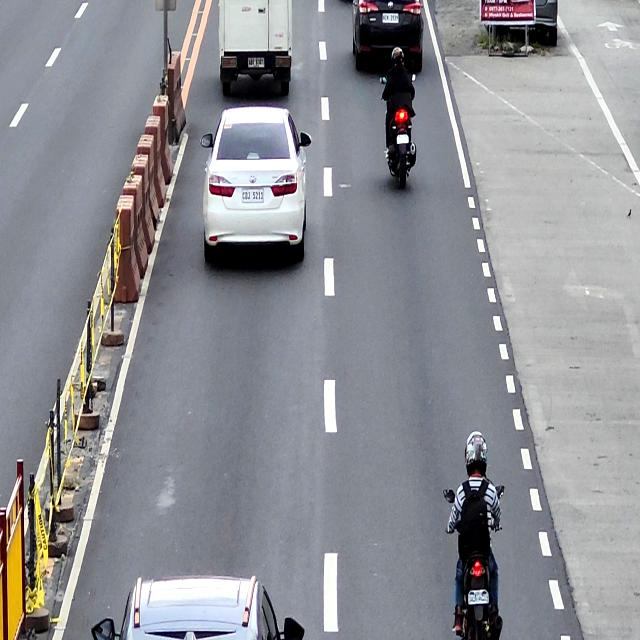Car: (200, 106, 312, 271), (91, 575, 305, 640), (218, 0, 294, 91), (352, 0, 426, 73)
License-Plate: (242, 188, 264, 204), (468, 588, 490, 604), (248, 57, 265, 69), (383, 12, 399, 24), (396, 134, 410, 145)
Motorcycle: (442, 482, 505, 640), (380, 72, 417, 190)
